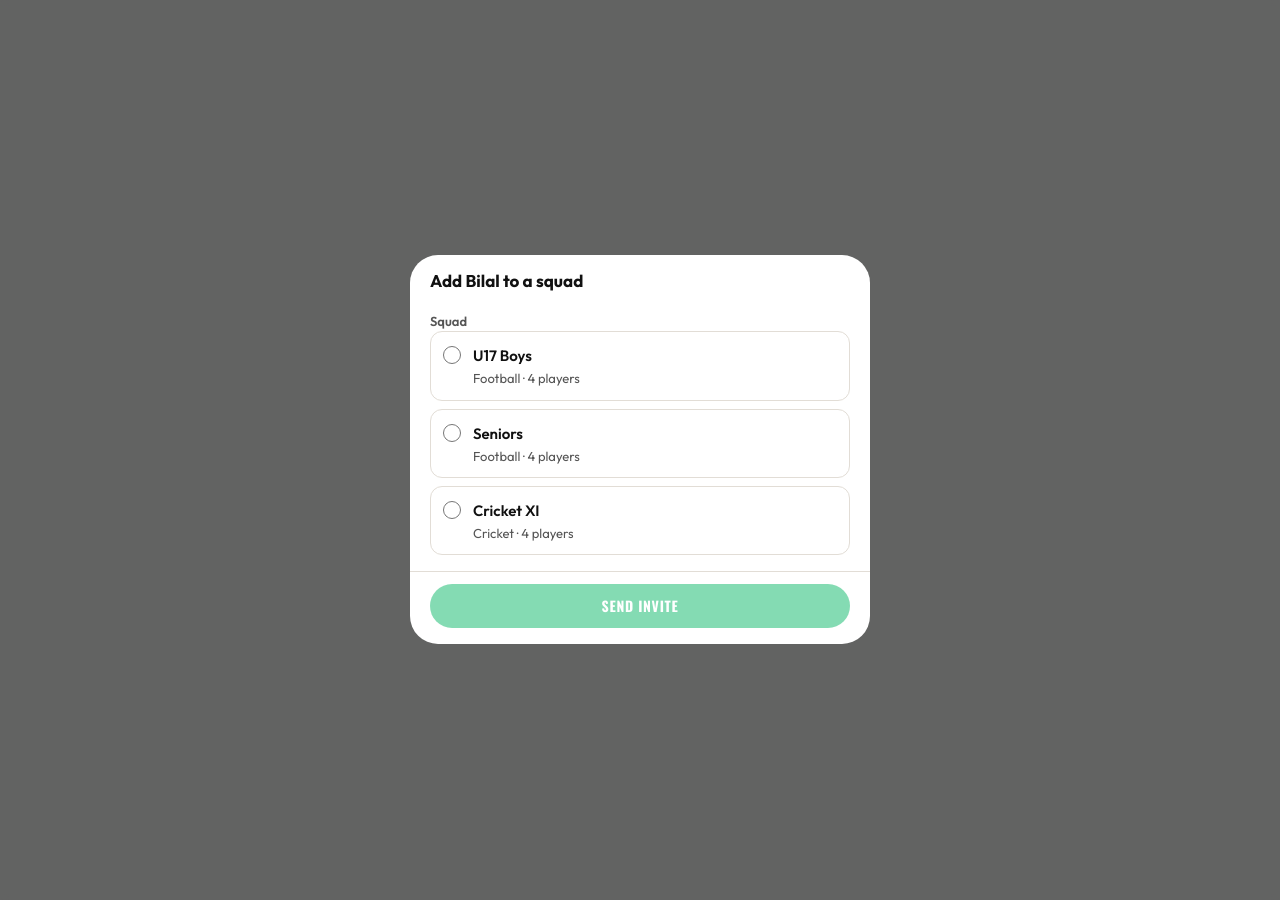
Scenario: AddToSquadSheet › says already_member in the sheet and stays open
Click the radio button labelled "U17 Boys Football · 4 players" at [452, 355], box 443,346 -> 461,364
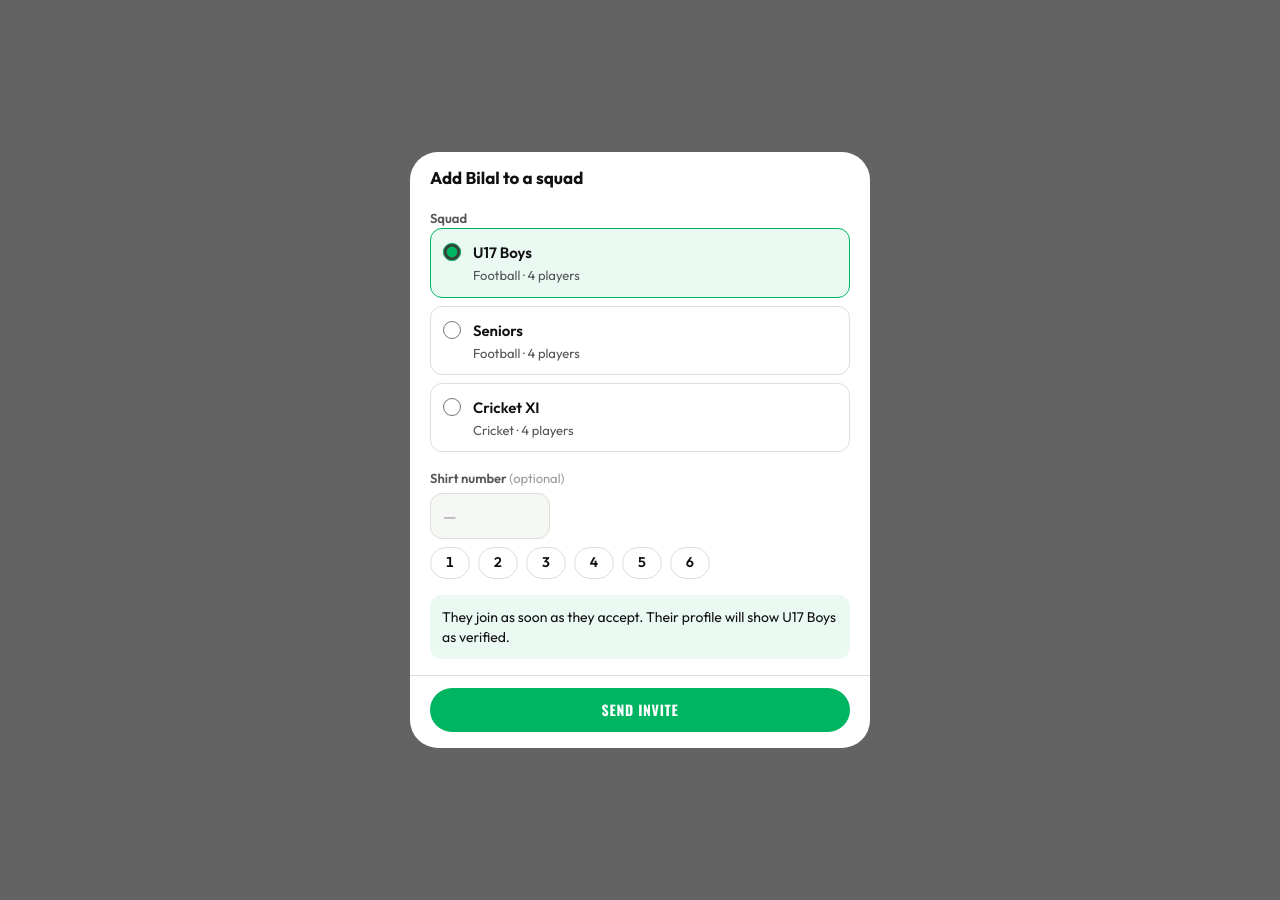
Expected: the button "Send invite" is enabled
Click the button "Send invite" at [640, 710], box 430,688 -> 850,732
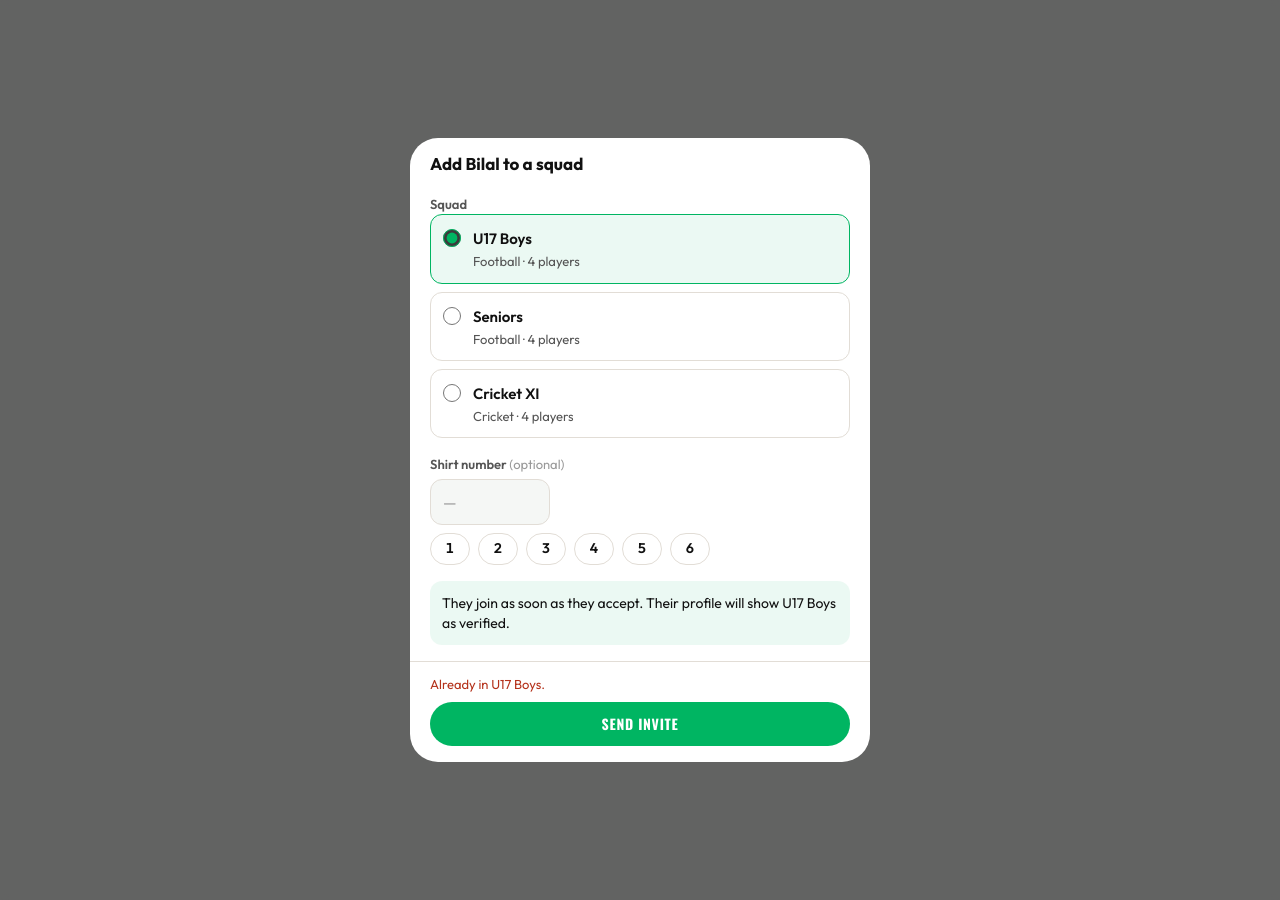
Expected: the message reads "Already in U17 Boys.", 430,676 -> 545,692
